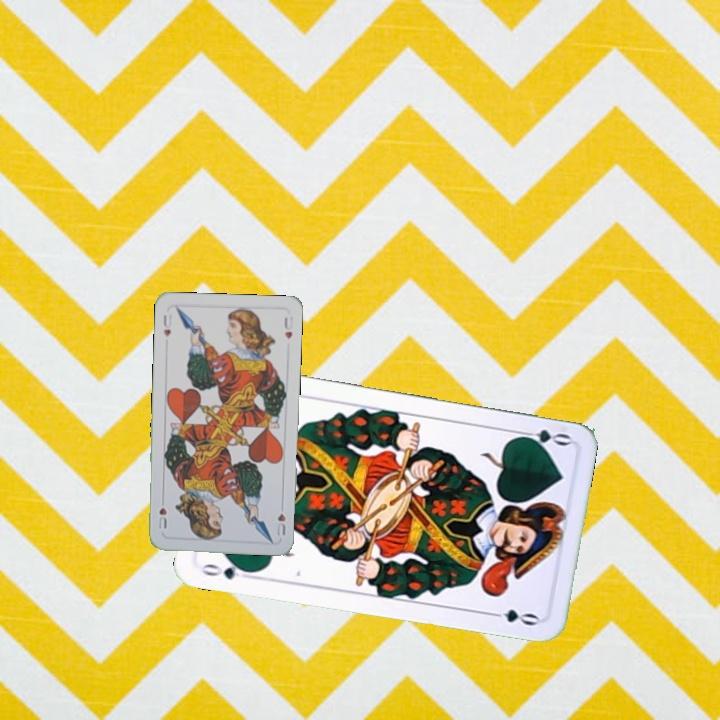GO: (198, 557, 257, 582), (512, 425, 572, 449)
HU: (159, 310, 174, 340), (273, 509, 288, 538)
